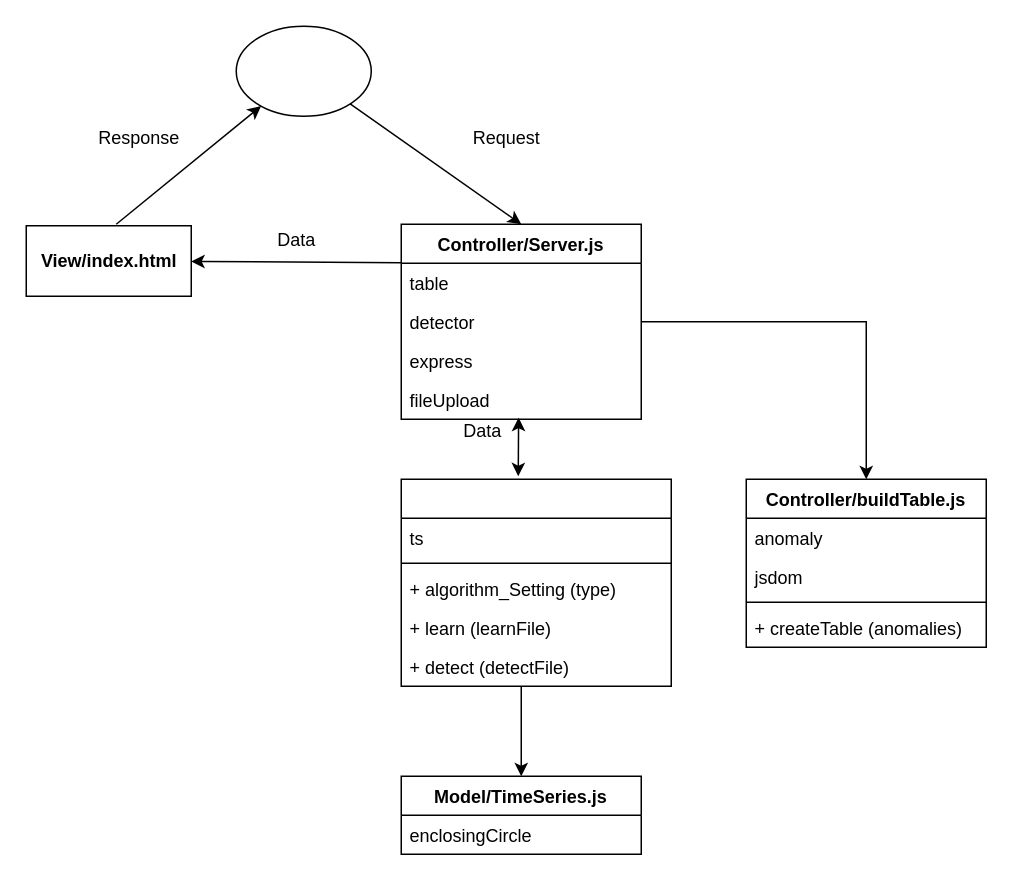
The diagram is 1013 pixels wide and 885 high, and some of its shapes have lost their labels. Each missing label, with the box of its shape:
Model/Detector.js: (400, 478, 671, 686)
user: (235, 25, 371, 116)
